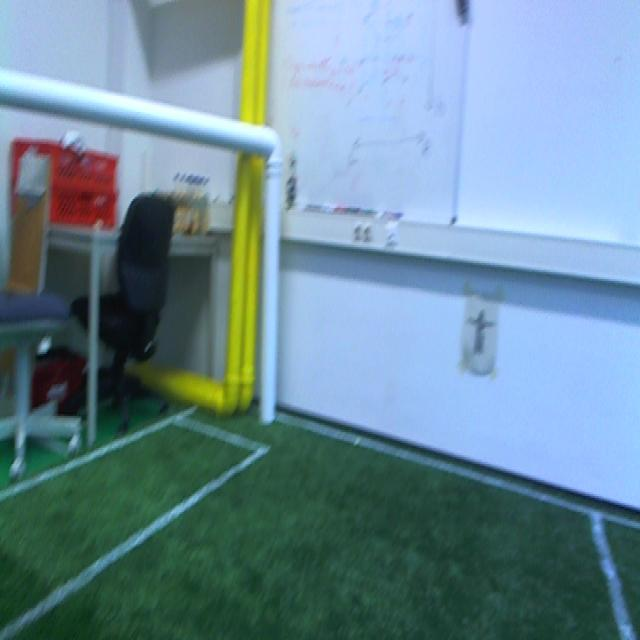goalpost: (256, 114, 287, 402)
